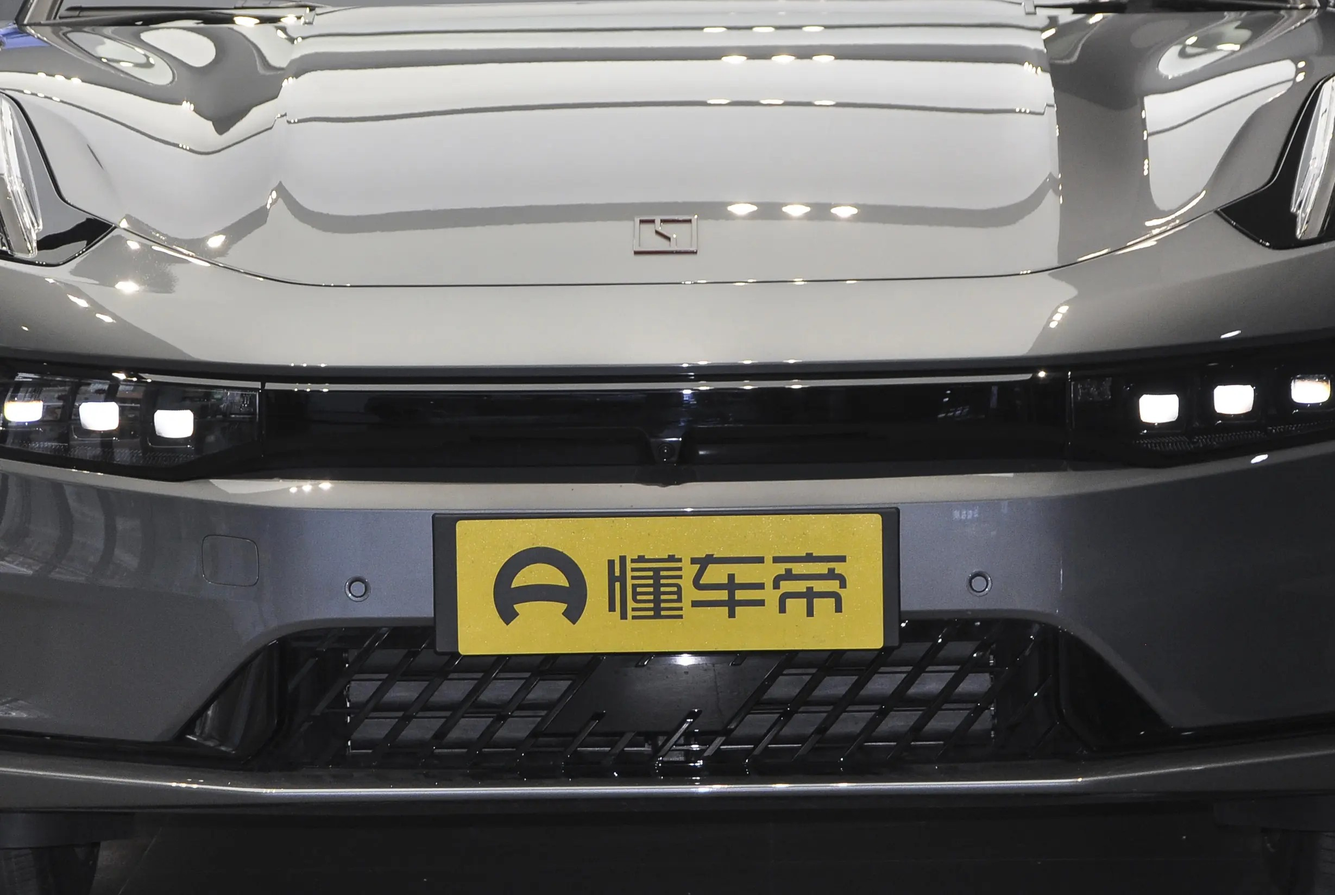ZEEKR: (634, 216, 696, 250)
